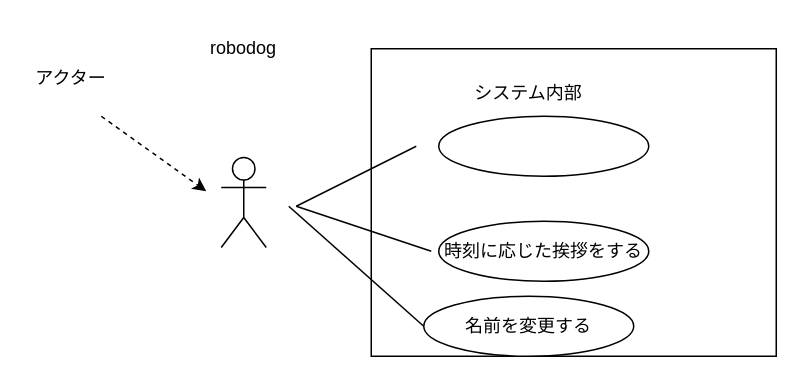
Some shapes in this 803 by 383 pixel diagram are drawn without their labels. Each missing label, with the centre of its shape:
ユーザ: point 243,202
足し算をする: point 543,145
